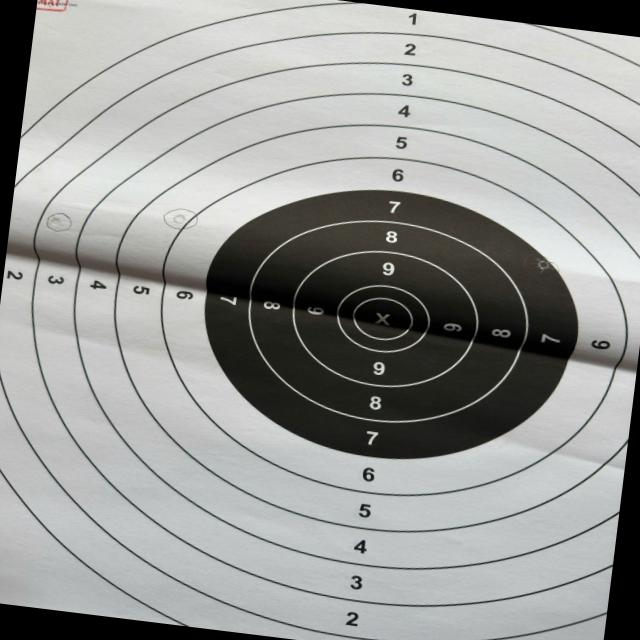bullet: (536, 258, 548, 270), (171, 213, 183, 224), (50, 215, 61, 227)
target: (0, 0, 640, 640)
